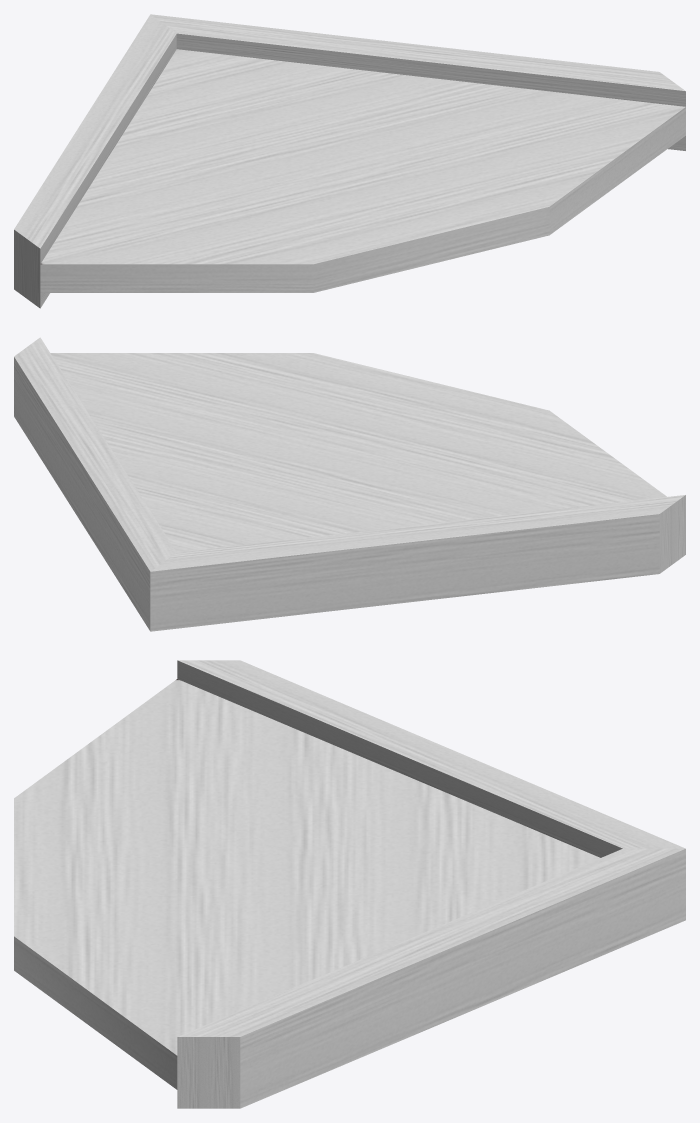
The model's file is Corner_Shelving_B_01.FBX.
The picture shows the model from 3 angles, top to bottom: view 1: azimuth 30°, elevation 25°; view 2: azimuth 150°, elevation 25°; view 3: azimuth 270°, elevation 25°; orthographic projection. The views are drawn at different scales.
Parts seen in each view (by area): view 1: Corner_Shelving_B; view 2: Corner_Shelving_B; view 3: Corner_Shelving_B.
Part boxes in pixels (x1,y1,x2,y2): Corner_Shelving_B: (14, 14, 685, 308); Corner_Shelving_B: (14, 337, 685, 631); Corner_Shelving_B: (14, 660, 685, 1108).
Bounding box in the file's own units: 141 × 12.55 × 107.
